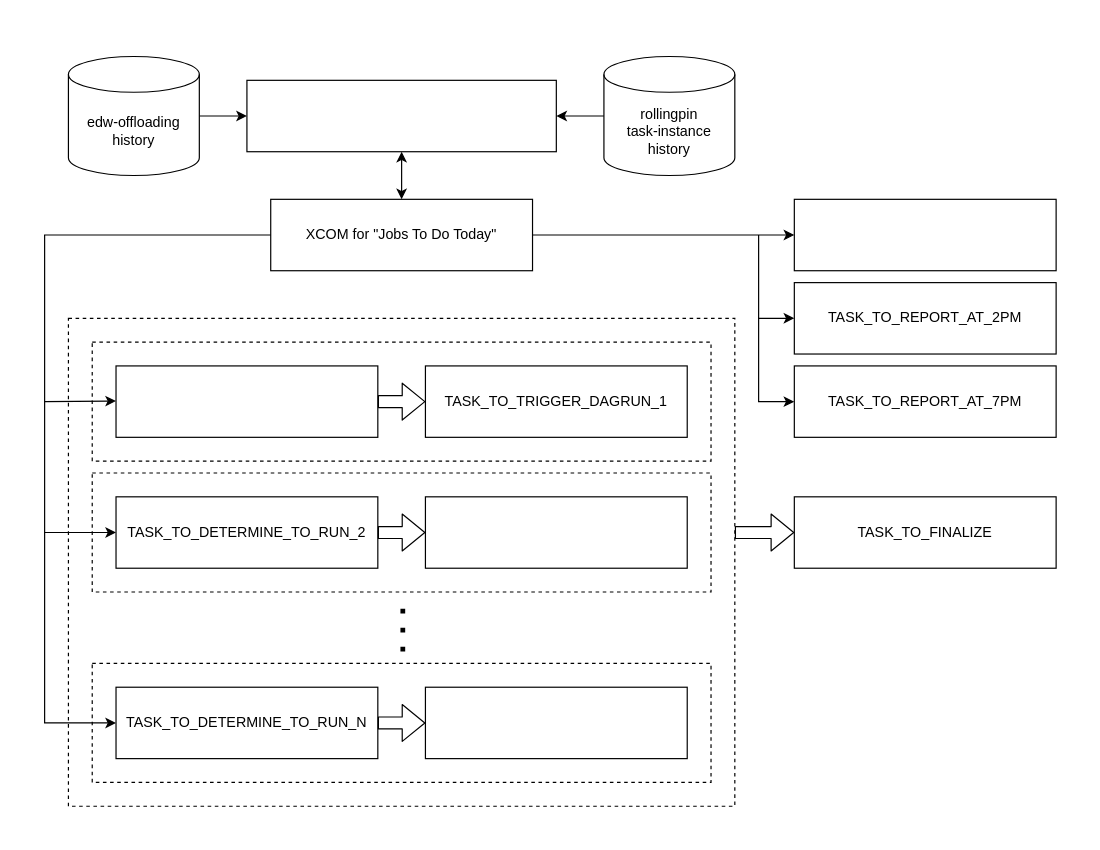
Image size: 1100x850. Some labels were removed from this diagram. Each missing label, with the centre of its shape:
TASK_TO_DETERMINE_TO_RUN_1: pixel 246 401
TASK_TO_MONITOR_UPSTREAMS: pixel 401 115
TASK_TO_REPORT_AT_9AM: pixel 924 234
TASK_TO_TRIGGER_DAGRUN_2: pixel 555 532
TASK_TO_TRIGGER_DAGRUN_N: pixel 555 722
